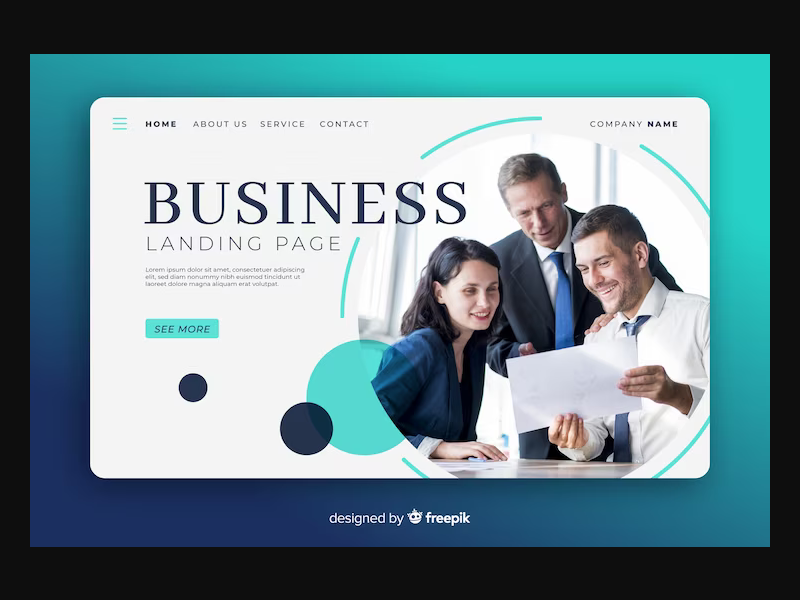menu: (97, 110, 701, 174)
